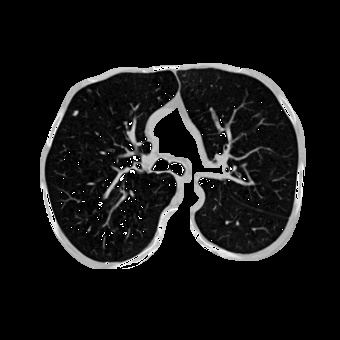PN: (72, 110, 78, 116)
